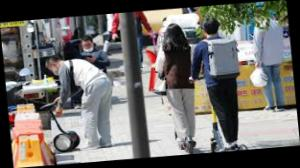nonhelmet: (184, 16, 252, 154), (150, 21, 203, 156)
